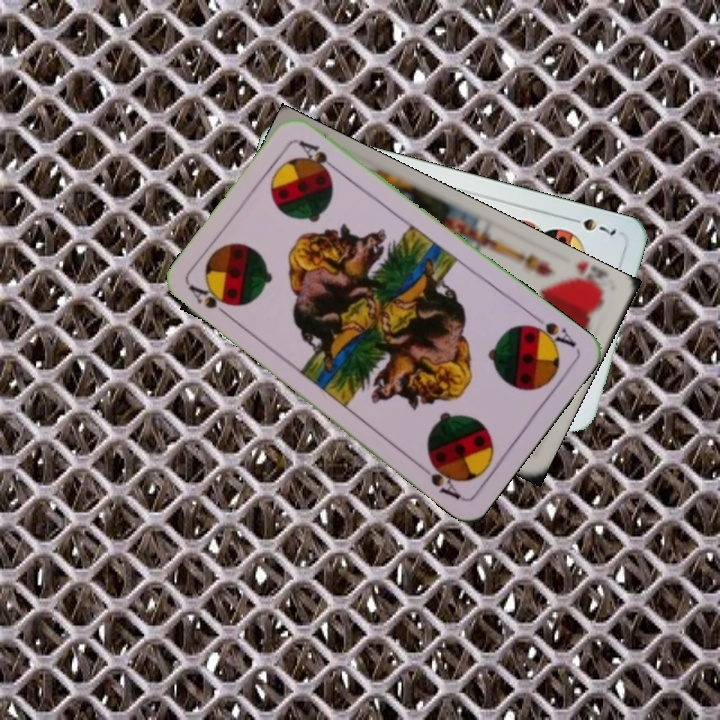HK: (564, 259, 609, 299)
S7: (564, 213, 619, 239)
SA: (522, 310, 579, 352), (185, 281, 236, 323)
